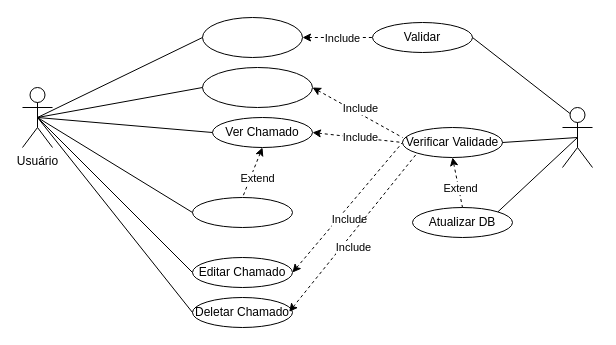
This 616x345 diagram has some shape labels left out. The centre of each missing label's shape, as x and y in pixels:
"Cadastrar-se" belongs at (x=252, y=37).
"Criar Chamado" belongs at (x=257, y=87).
"Filtrar chamados" belongs at (x=242, y=212).
"Sistema" belongs at (x=577, y=137).
